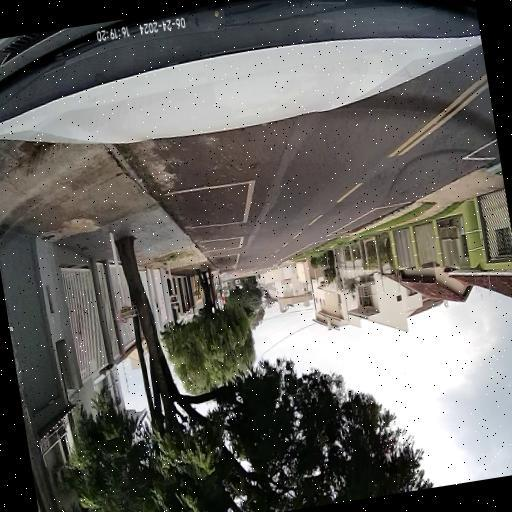R-2: (220, 297, 225, 304)
